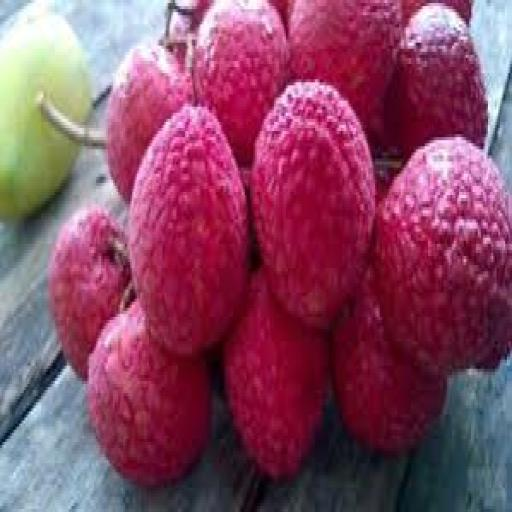lychee: (376, 138, 511, 374), (252, 83, 375, 329), (129, 107, 248, 356), (88, 302, 210, 484), (225, 272, 328, 478), (333, 275, 446, 454), (194, 0, 289, 164), (288, 0, 402, 131), (391, 4, 488, 155), (107, 43, 193, 201), (50, 208, 130, 377), (401, 0, 472, 24)
